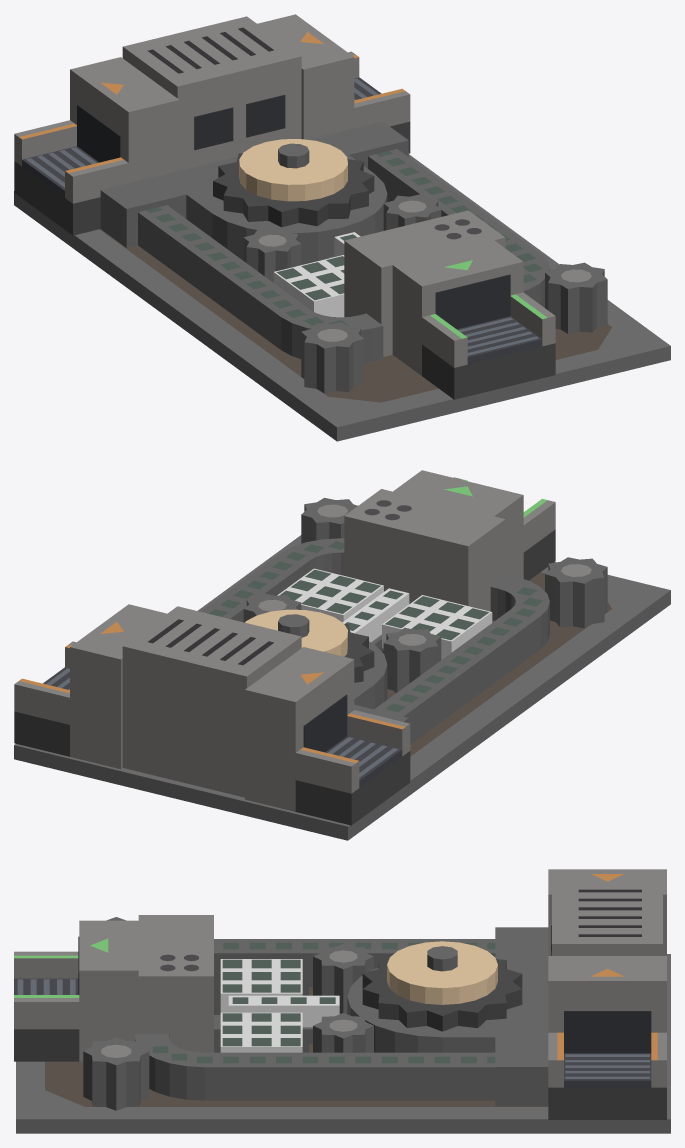
Rendered from vfef_cannery.obj.
3 views of the same model, one above another, from view 1: azimuth 30°, elevation 25°; view 2: azimuth 150°, elevation 25°; view 3: azimuth 270°, elevation 25° (orthographic).
Visible parts, largest first — view 1: vfef_cannery_0, vfef_cannery_51, vfef_cannery_22, vfef_cannery_26, vfef_cannery_30, vfef_cannery_2, vfef_cannery_1, vfef_cannery_12, vfef_cannery_28, vfef_cannery_27, vfef_cannery_54, vfef_cannery_32 (+24 smaller); view 2: vfef_cannery_22, vfef_cannery_51, vfef_cannery_0, vfef_cannery_2, vfef_cannery_30, vfef_cannery_12, vfef_cannery_4, vfef_cannery_38, vfef_cannery_32, vfef_cannery_1, vfef_cannery_34, vfef_cannery_43 (+22 smaller); view 3: vfef_cannery_0, vfef_cannery_51, vfef_cannery_32, vfef_cannery_26, vfef_cannery_22, vfef_cannery_12, vfef_cannery_28, vfef_cannery_27, vfef_cannery_1, vfef_cannery_40, vfef_cannery_14, vfef_cannery_21 (+23 smaller).
Part boxes in pixels (x1=…): vfef_cannery_0: x1=14, y1=154, x2=670, y2=441; vfef_cannery_51: x1=344, y1=210, x2=523, y2=375; vfef_cannery_22: x1=122, y1=16, x2=301, y2=170; vfef_cannery_26: x1=100, y1=121, x2=408, y2=264; vfef_cannery_30: x1=138, y1=205, x2=383, y2=362; vfef_cannery_2: x1=70, y1=57, x2=179, y2=182; vfef_cannery_1: x1=100, y1=229, x2=611, y2=402; vfef_cannery_12: x1=257, y1=14, x2=354, y2=139; vfef_cannery_28: x1=239, y1=139, x2=347, y2=201; vfef_cannery_27: x1=213, y1=153, x2=374, y2=227; vfef_cannery_54: x1=422, y1=343, x2=555, y2=399; vfef_cannery_32: x1=368, y1=149, x2=549, y2=307; vfef_cannery_22: x1=122, y1=606, x2=301, y2=797; vfef_cannery_51: x1=344, y1=470, x2=523, y2=611; vfef_cannery_0: x1=14, y1=535, x2=670, y2=840; vfef_cannery_2: x1=245, y1=647, x2=354, y2=811; vfef_cannery_30: x1=374, y1=574, x2=549, y2=744; vfef_cannery_12: x1=70, y1=604, x2=166, y2=769; vfef_cannery_4: x1=295, y1=751, x2=410, y2=825; vfef_cannery_38: x1=545, y1=557, x2=607, y2=628; vfef_cannery_32: x1=201, y1=538, x2=344, y2=622; vfef_cannery_1: x1=387, y1=572, x2=611, y2=756; vfef_cannery_34: x1=383, y1=627, x2=441, y2=692; vfef_cannery_43: x1=382, y1=595, x2=492, y2=659; vfef_cannery_0: x1=16, y1=954, x2=670, y2=1133; vfef_cannery_51: x1=79, y1=915, x2=213, y2=1061; vfef_cannery_32: x1=135, y1=1033, x2=495, y2=1100; vfef_cannery_26: x1=347, y1=927, x2=548, y2=1106; vfef_cannery_22: x1=552, y1=882, x2=662, y2=955; vfef_cannery_12: x1=548, y1=956, x2=666, y2=1032; vfef_cannery_28: x1=387, y1=941, x2=497, y2=1004; vfef_cannery_27: x1=362, y1=959, x2=522, y2=1031; vfef_cannery_1: x1=45, y1=987, x2=548, y2=1106; vfef_cannery_40: x1=83, y1=1037, x2=149, y2=1110; vfef_cannery_14: x1=548, y1=1087, x2=666, y2=1119; vfef_cannery_21: x1=564, y1=1011, x2=651, y2=1053.
Bounding box in the file's own units: 2.99 × 1.15 × 4.97.
